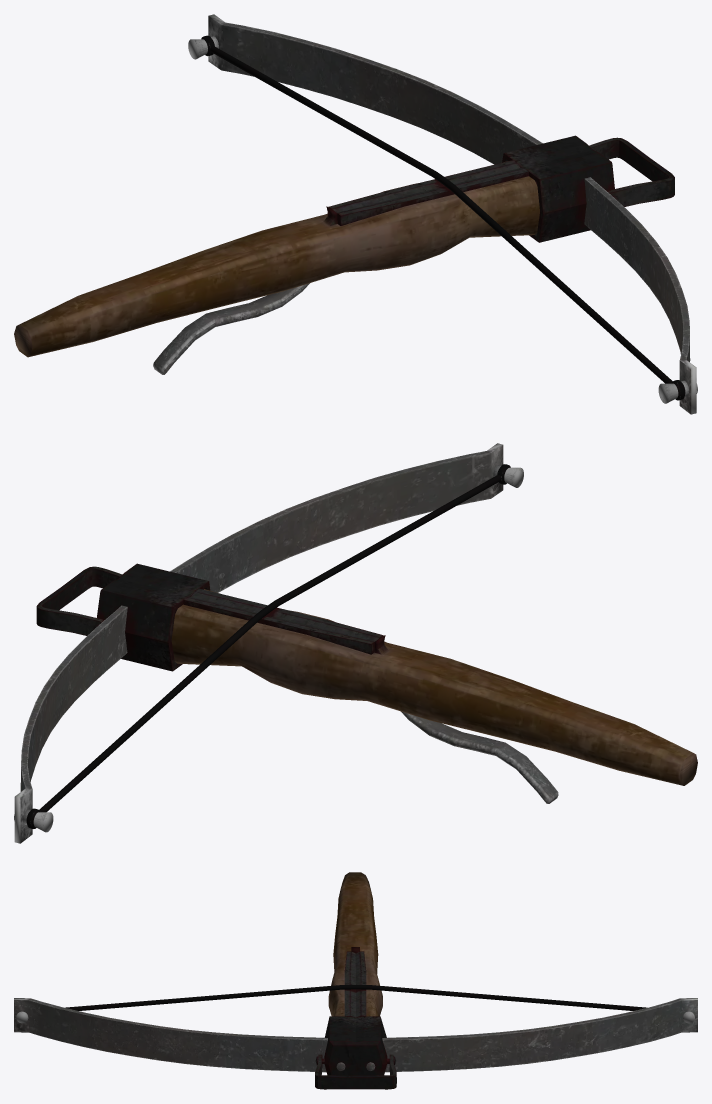
The model's file is heavy_crossbow.glb.
The picture shows the model from 3 angles, top to bottom: view 1: azimuth 30°, elevation 25°; view 2: azimuth 150°, elevation 25°; view 3: azimuth 270°, elevation 25°; orthographic projection. The views are drawn at different scales.
Visible parts, largest first — view 1: heavy_crossbow; view 2: heavy_crossbow; view 3: heavy_crossbow.
Part boxes in pixels (<box>): heavy_crossbow: <box>14,14,697,414</box>; heavy_crossbow: <box>14,443,697,843</box>; heavy_crossbow: <box>14,872,697,1089</box>.
Size of the model in its own units: 0.78 by 0.1487 by 1.04.
Materials: 1 (1 with a texture image).
